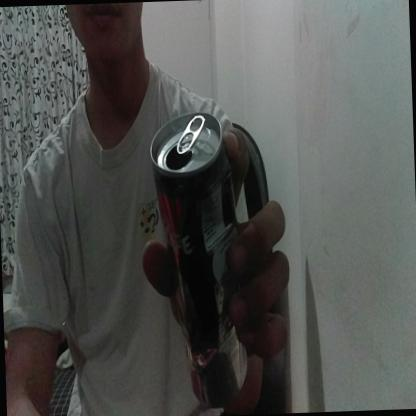alumunium_can: (148, 106, 250, 408)
